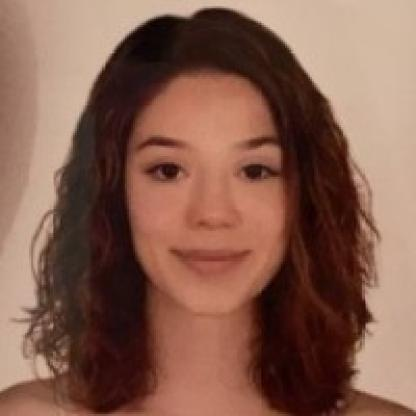person: (102, 24, 344, 333)
